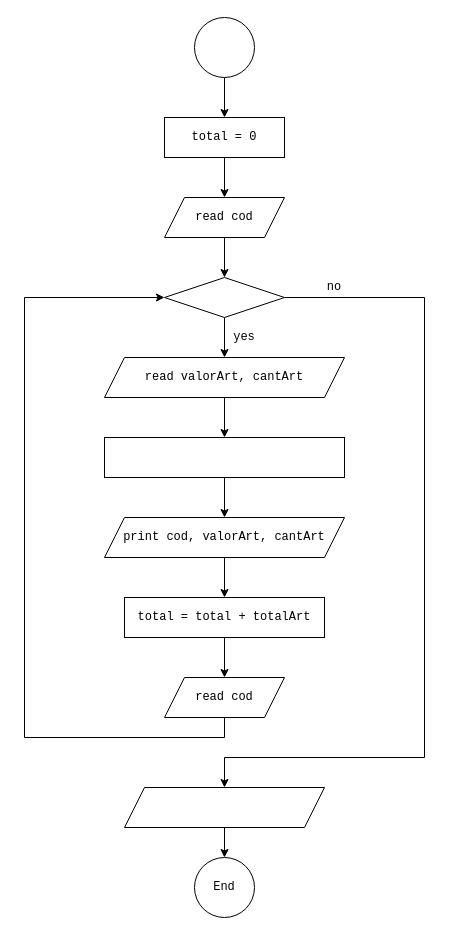
Some shapes in this 450 by 935 pixel diagram are drawn without their labels. The centre of each missing label's shape, as x and y in pixels:
"cod >= 0" belongs at point 224,297.
"print total" belongs at point 224,807.
"Start" belongs at point 224,47.
"totalArt = valorArt*cantArt" belongs at point 224,457.
